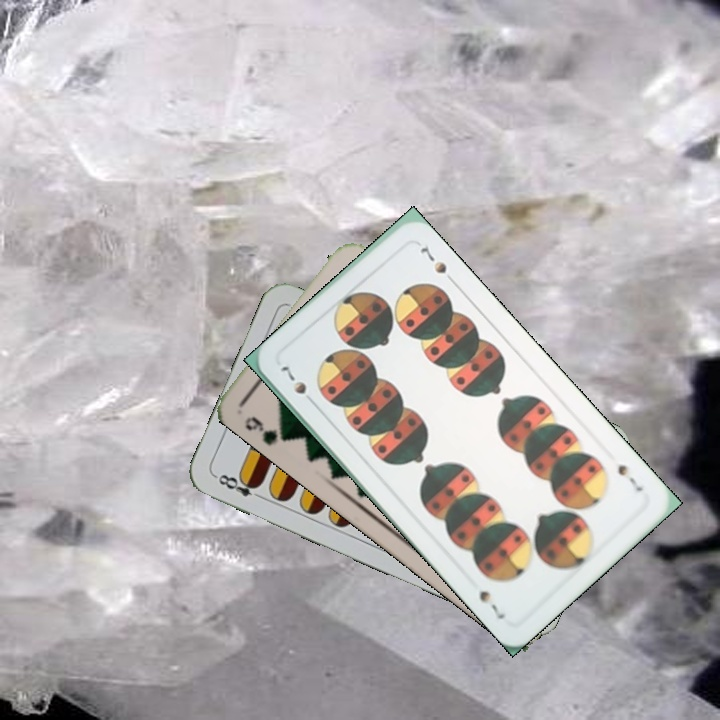E8: (211, 470, 267, 503)
G9: (240, 412, 294, 448)
S7: (277, 361, 319, 409), (613, 460, 646, 495)
